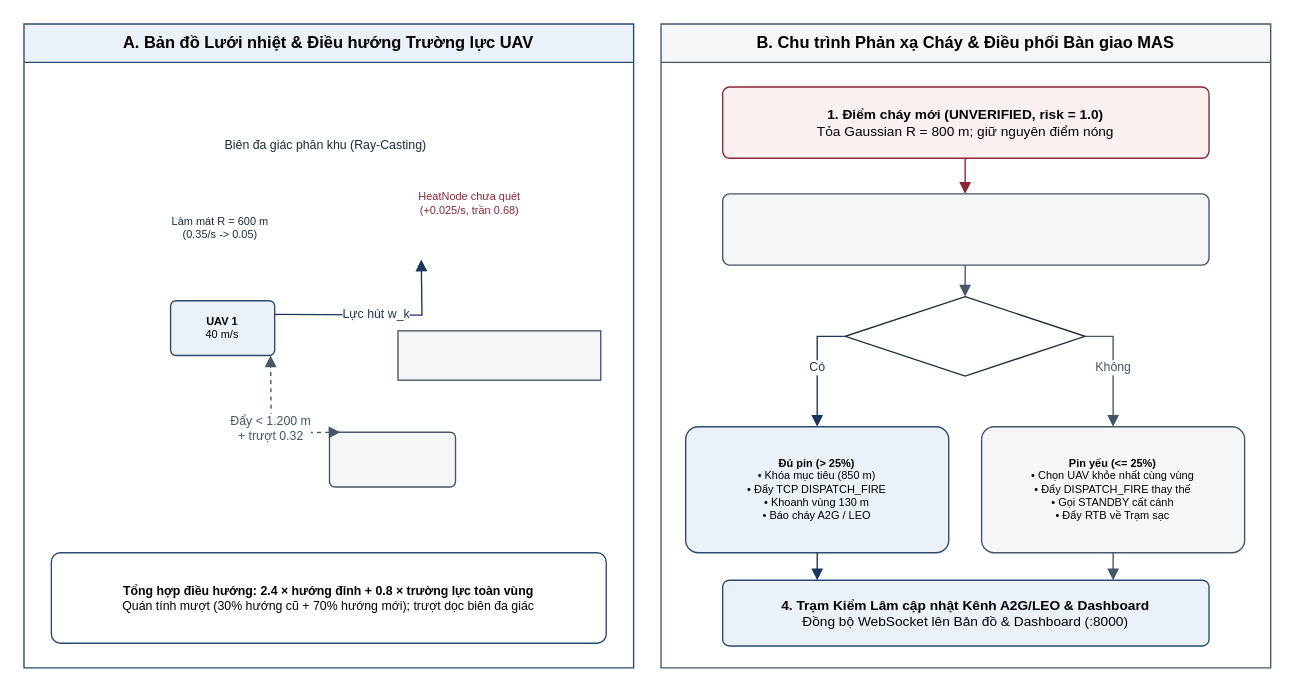
Image size: 1295x692. Some labels were removed from this diagram. The shapes that lost their labels are listed below. From the top down, each one's centre as x and y in pixels, then its label:
[965,228]: 2. UAV Client bay <= 600 m (DETECTED) Server tính phần trăm pin dự kiến khứ hồi
[499,354]: Giảm hút c_k = 0.2 nếu đồng đội gần hơn
[964,335]: 3. Pin khứ hồi > 25%?
[392,459]: UAV 2 cùng vùng
